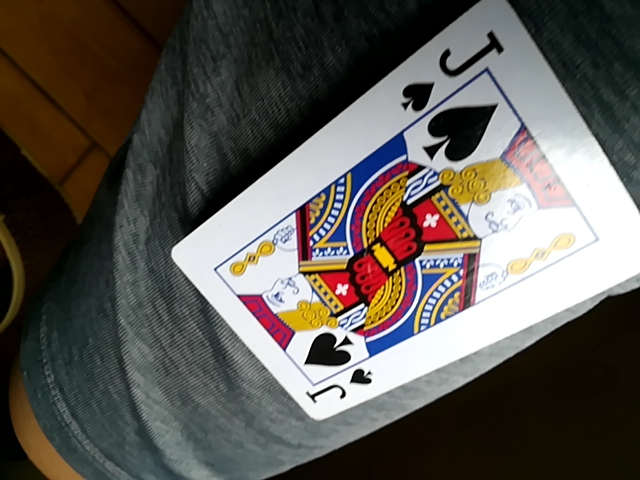ht j: (158, 8, 636, 420)
